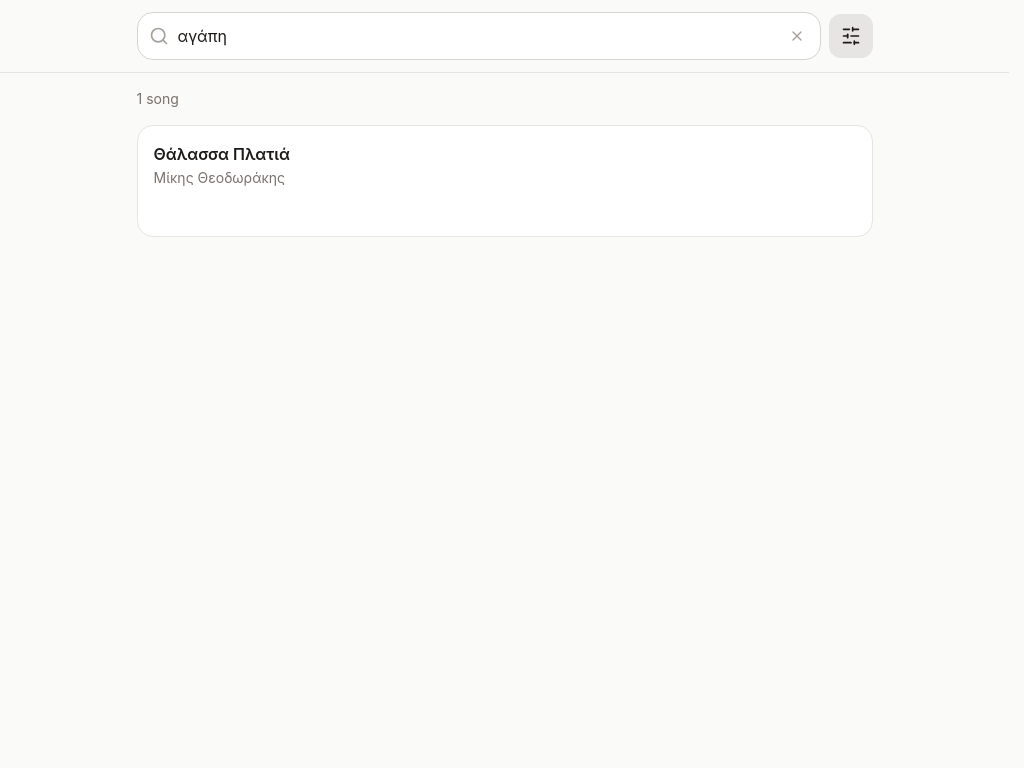
Test: BrowsePage sort picker › offers relevance only while there is something to rank against
Click the button named "filters": coordinates (850, 36) x1=828 y1=14 x2=872 y2=58
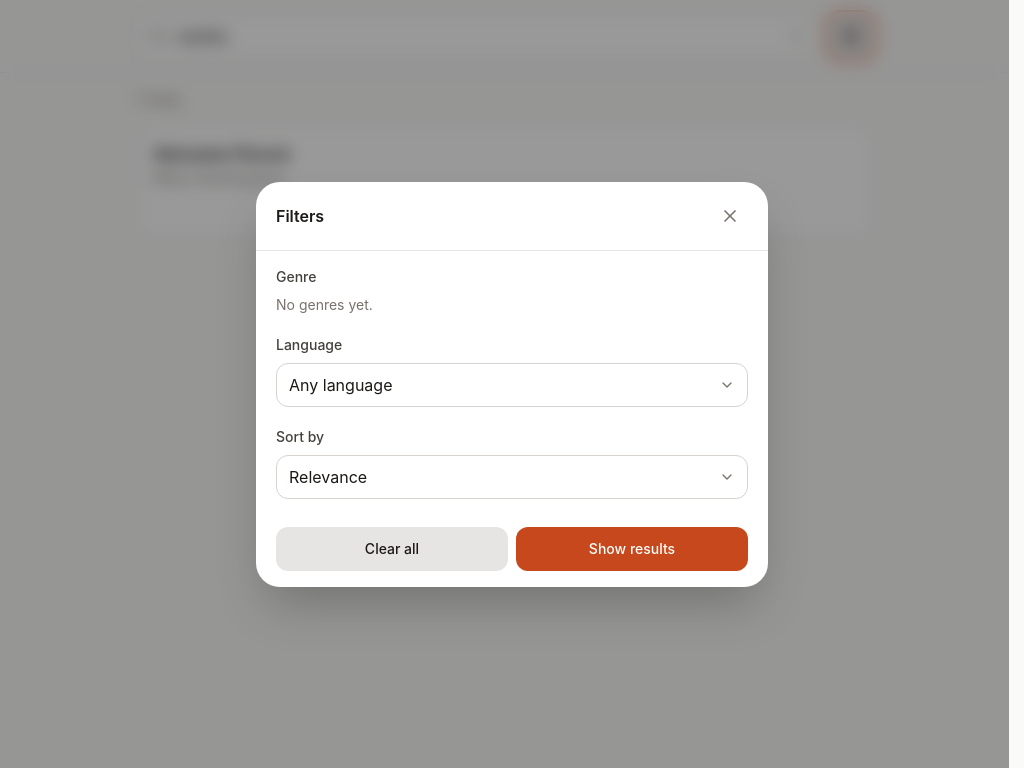
Expected: the dropdown labelled "Sort by" shows "Relevance", x1=276 y1=454 x2=748 y2=498
